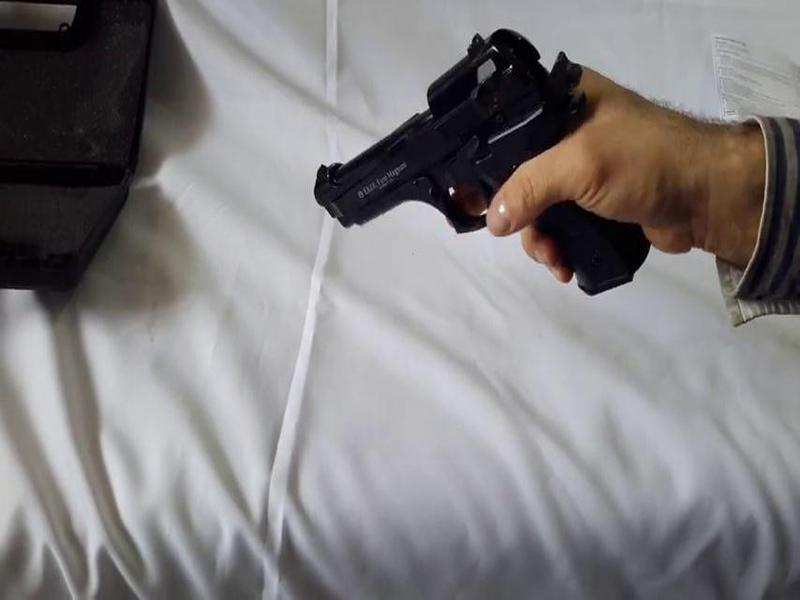Pistola: (287, 17, 661, 293)
